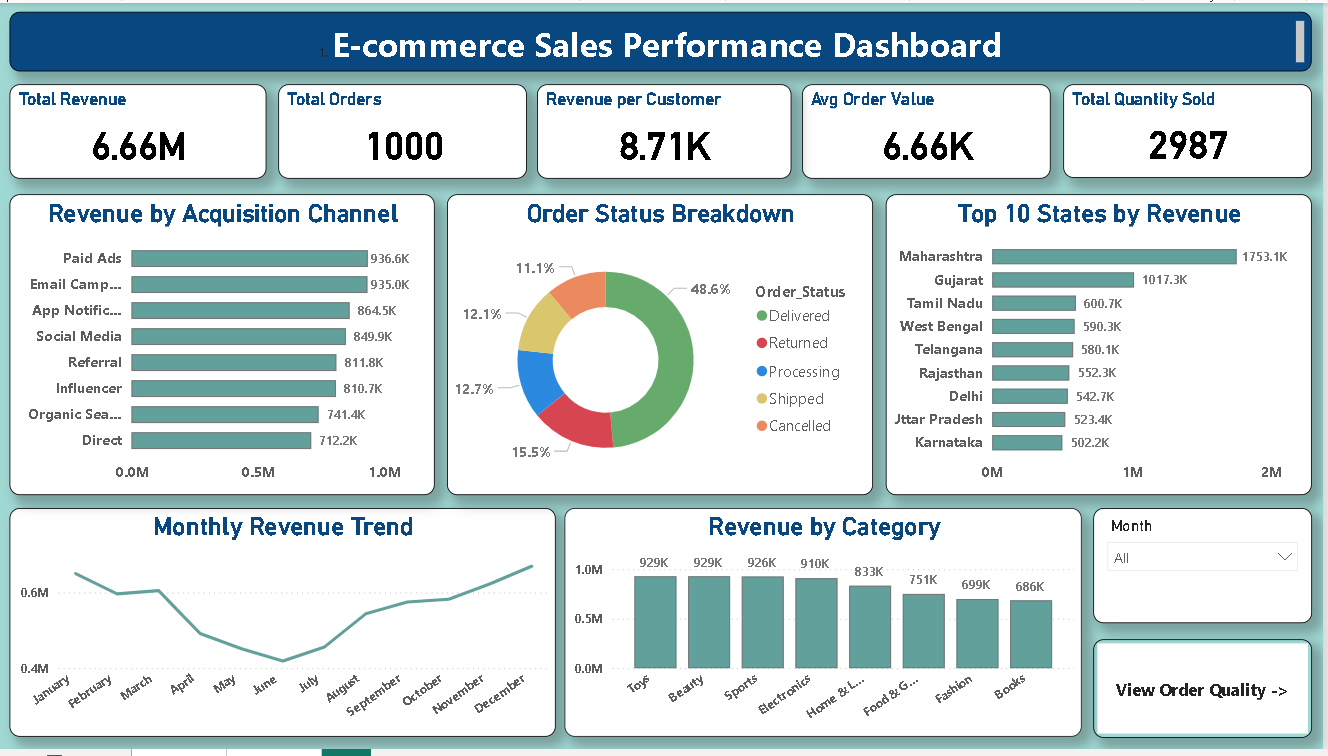

The page's visual inventory and layout, read from the dashboard file:
{"tool":"powerbi","page":{"name":"Sales Performance","canvas":[1280,720],"ordinal":0},"visuals":[{"type":"textbox","box":[12.3,8.6,1256.8,57.9],"z":0},{"type":"card","title":"Total Revenue","fields":{"Values":["Orders_Raw.Total Revenue"]},"box":[12.3,78.9,247.7,91.2],"z":1000},{"type":"card","title":"Total Orders","fields":{"Values":["Orders_Raw.Total Orders"]},"box":[271.1,78.9,240.3,91.2],"z":2000},{"type":"card","title":"Avg Order Value","fields":{"Values":["Orders_Raw.Average Order Value"]},"box":[777.5,78.9,240.3,91.2],"z":3000},{"type":"card","title":"Revenue per Customer","fields":{"Values":["Orders_Raw.Revenue per Customer"]},"box":[521.2,78.9,245.2,91.2],"z":4000},{"type":"lineChart","title":"Monthly Revenue Trend","fields":{"Y":["Orders_Raw.Total Revenue"],"Category":["Orders_Raw.Order_Date.Variation.Date Hierarchy.Month","Orders_Raw.Order_Date.Variation.Date Hierarchy.Day"]},"box":[12.1,487.4,527.2,220.8],"z":5000},{"type":"barChart","title":"Revenue by Acquisition Channel","fields":{"Category":["Orders_Raw.Acquisition_Channel"],"Y":["Orders_Raw.Total Revenue"]},"box":[12.3,184.8,410.3,290.8],"z":6000},{"type":"donutChart","title":"Order Status Breakdown","fields":{"Category":["Orders_Raw.Order_Status"],"Y":["Orders_Raw.Total Orders"]},"box":[433.7,184.8,411.6,290.8],"z":7000},{"type":"barChart","title":"Top 10 States by Revenue","fields":{"Category":["Orders_Raw.State"],"Y":["Orders_Raw.Total Revenue"]},"box":[857.6,184.8,411.6,290.8],"z":8000},{"type":"clusteredColumnChart","title":"Revenue by Category","fields":{"Category":["Orders_Raw.Category"],"Y":["Orders_Raw.Total Revenue"]},"box":[547.7,487.4,499.5,220.8],"z":9000},{"type":"slicer","fields":{"Values":["Orders_Raw.Month"]},"box":[1058,487.4,211.1,111],"z":10000},{"type":"card","title":"Total Quantity Sold","fields":{"Values":["Sum(Orders_Raw.Quantity)"]},"box":[1029.1,78.4,240.1,90.5],"z":11000},{"type":"actionButton","box":[1057.5,613.8,211.2,95],"z":12000}]}

Visuals, with their boxes in screenshot pixels (x1, y1, x2, y2), scaled from the page's 1280x720 canvas onto the 1328x756 screenshot:
textbox: rect(13, 9, 1317, 70)
"Total Revenue" card: rect(13, 83, 270, 179)
"Total Orders" card: rect(281, 83, 531, 179)
"Avg Order Value" card: rect(807, 83, 1056, 179)
"Revenue per Customer" card: rect(541, 83, 795, 179)
"Monthly Revenue Trend" lineChart: rect(13, 512, 560, 744)
"Revenue by Acquisition Channel" barChart: rect(13, 194, 438, 499)
"Order Status Breakdown" donutChart: rect(450, 194, 877, 499)
"Top 10 States by Revenue" barChart: rect(890, 194, 1317, 499)
"Revenue by Category" clusteredColumnChart: rect(568, 512, 1086, 744)
slicer - Orders_Raw.Month: rect(1098, 512, 1317, 628)
"Total Quantity Sold" card: rect(1068, 82, 1317, 177)
actionButton: rect(1097, 644, 1316, 744)
